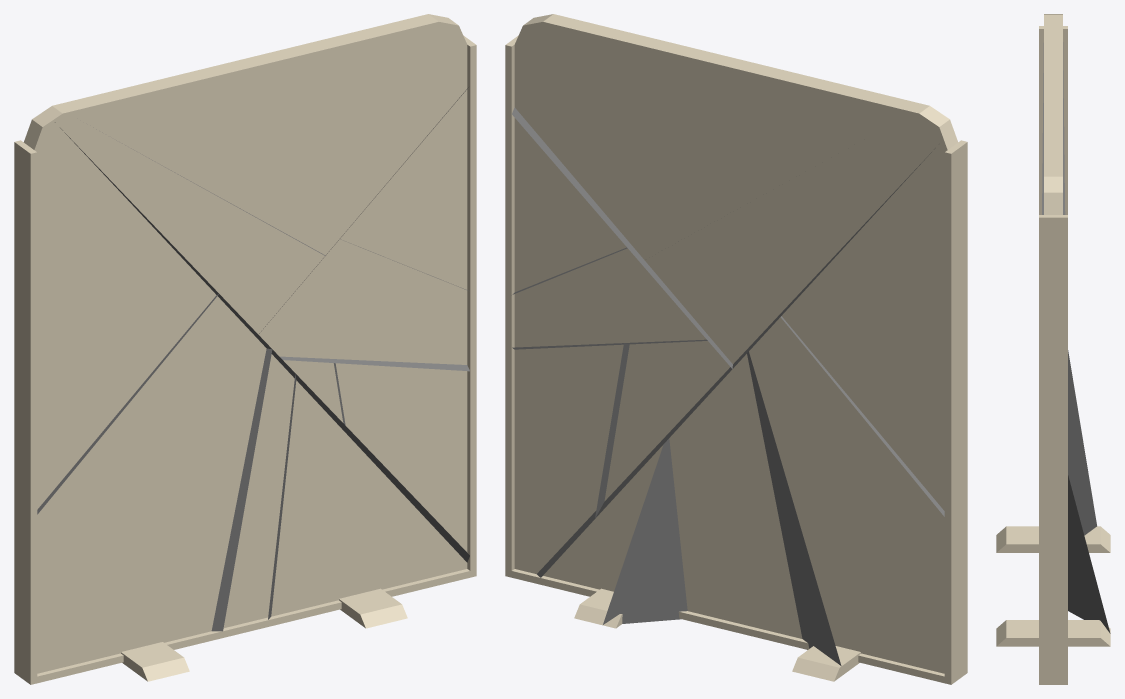
Rendered from divider_black_blue_halfFragments.fbx.
3 views of the same model, side by side, from view 1: azimuth 30°, elevation 25°; view 2: azimuth 150°, elevation 25°; view 3: azimuth 270°, elevation 25° (orthographic). The views are drawn at different scales.
Parts seen in each view (by area): view 1: Fragment4, Fragment0, Fragment5, Fragment3, Fragment8, Fragment7, Fragment1, Fragment9, Fragment2, Fragment6; view 2: Fragment0, Fragment4, Fragment5, Fragment2, Fragment1, Fragment7, Fragment8, Fragment9, Fragment6, Fragment3; view 3: Fragment2, Fragment0, Fragment7, Fragment9, Fragment3, Fragment4, Fragment8, Fragment5, Fragment1.
Part boxes in pixels (x1,y1,x2,y2): Fragment4: (14,294,271,684); Fragment0: (58,14,476,255); Fragment5: (14,120,218,522); Fragment3: (267,375,476,628); Fragment8: (256,239,476,371); Fragment7: (334,360,476,562); Fragment1: (28,104,324,336); Fragment9: (340,78,476,293); Fragment2: (211,348,296,638); Fragment6: (275,357,346,432); Fragment0: (505,14,925,262); Fragment4: (747,314,967,684); Fragment5: (780,113,967,524); Fragment2: (603,352,842,681); Fragment1: (640,105,944,368); Fragment7: (505,343,628,583); Fragment8: (505,247,712,349); Fragment9: (505,107,626,297); Fragment6: (595,339,732,518); Fragment3: (536,434,686,625); Fragment2: (1068,350,1110,633); Fragment0: (1039,16,1067,271); Fragment7: (1039,484,1067,684); Fragment9: (1039,247,1067,439); Fragment3: (996,485,1110,684); Fragment4: (996,356,1096,552); Fragment8: (1039,437,1067,504); Fragment5: (1039,14,1067,214); Fragment1: (1042,14,1064,214).
Size of the model in its own units: 207 by 250 by 52.3.
